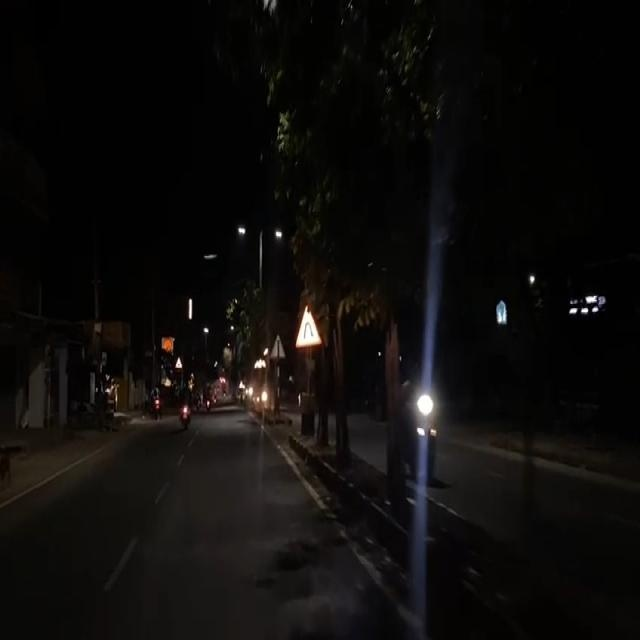bien_nguy_hiem: (295, 304, 322, 350)
